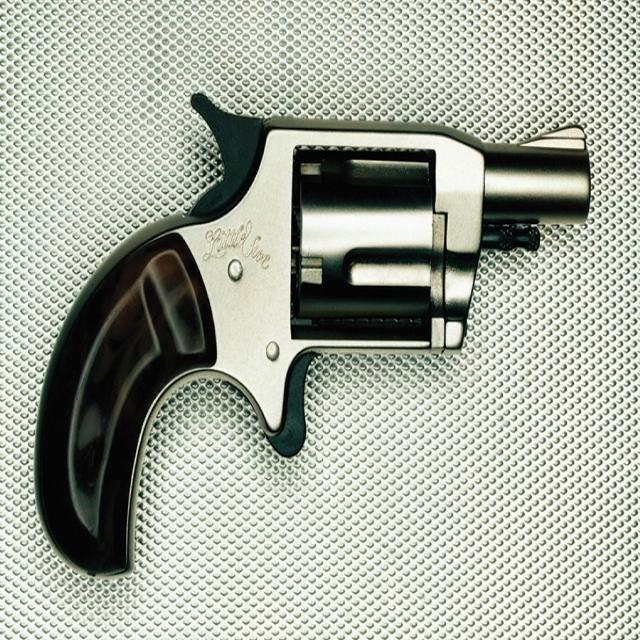HandGun: (31, 79, 594, 582), (33, 95, 591, 578)
